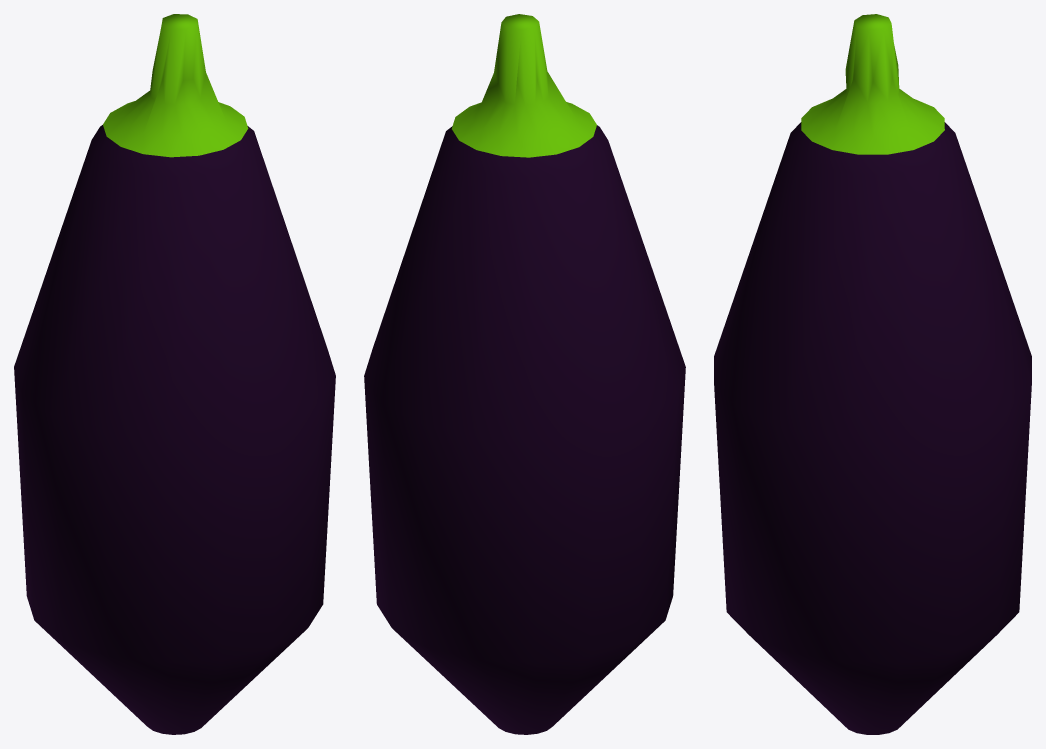
Rendered from AubergineMesh.fbx.
3 views of the same model, side by side, from view 1: azimuth 30°, elevation 25°; view 2: azimuth 150°, elevation 25°; view 3: azimuth 270°, elevation 25° (orthographic).
Parts seen in each view (by area): view 1: Aubergine; view 2: Aubergine; view 3: Aubergine.
Part boxes in pixels (left/top/right/bottom): Aubergine: left=14, top=14, right=335, bottom=734; Aubergine: left=364, top=14, right=685, bottom=734; Aubergine: left=714, top=14, right=1031, bottom=734.
Bounding box in the file's own units: 378 × 926 × 378.
